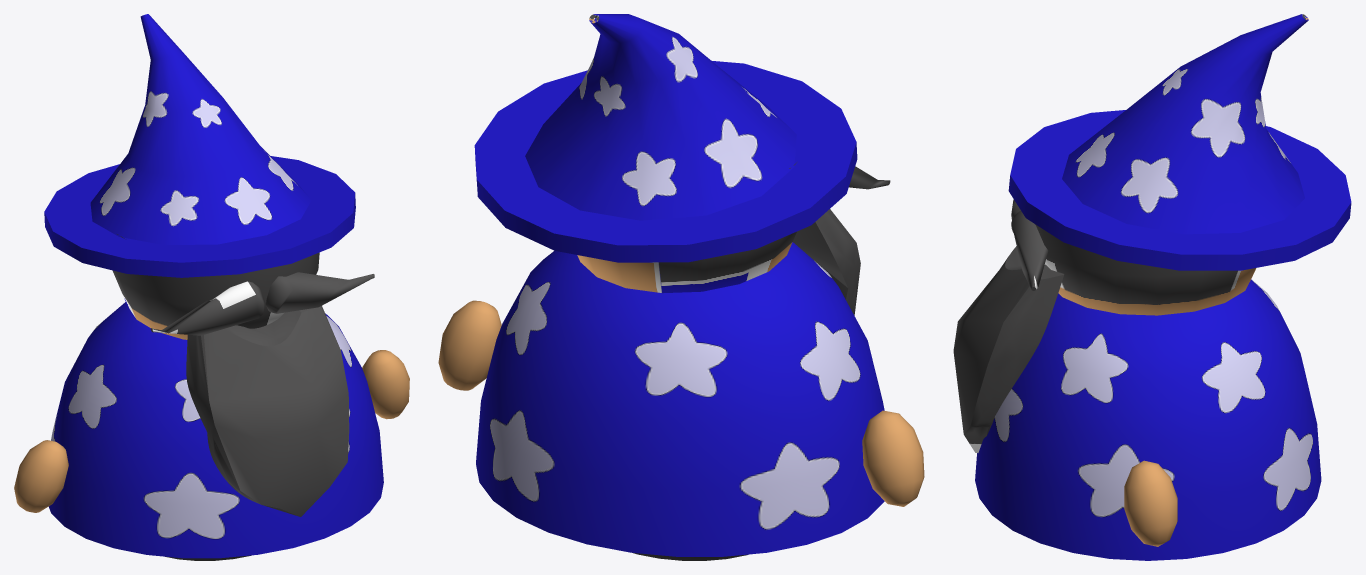
Rendered from Mago01.FBX.
3 renders of one model, left to right at view 1: azimuth 30°, elevation 25°; view 2: azimuth 150°, elevation 25°; view 3: azimuth 270°, elevation 25°, orthographic. The views are drawn at different scales.
Visible parts, largest first — view 1: Cuerpo, Sombrero, Barba, Cabeza, ManoDer, ManoIzq; view 2: Cuerpo, Sombrero, Cabeza, ManoDer, ManoIzq, Barba; view 3: Cuerpo, Sombrero, Barba, Cabeza, ManoIzq.
Boxes of the visible parts, x1,y1,x2,y2 form: Cuerpo: (48,302,383,558); Sombrero: (44,14,355,277); Barba: (150,272,374,516); Cabeza: (112,234,319,339); ManoDer: (14,440,68,512); ManoIzq: (362,350,409,419); Cuerpo: (476,242,884,556); Sombrero: (474,14,857,262); Cabeza: (577,162,796,293); ManoDer: (862,410,924,506); ManoIzq: (438,300,501,390); Barba: (793,166,890,315); Cuerpo: (975,279,1321,560); Sombrero: (1008,14,1351,270); Barba: (953,199,1064,452); Cabeza: (1035,224,1256,315); ManoIzq: (1124,460,1177,546).
Size of the model in its own units: 44.46 by 52.16 by 35.79.
1 material, 1 textured.
